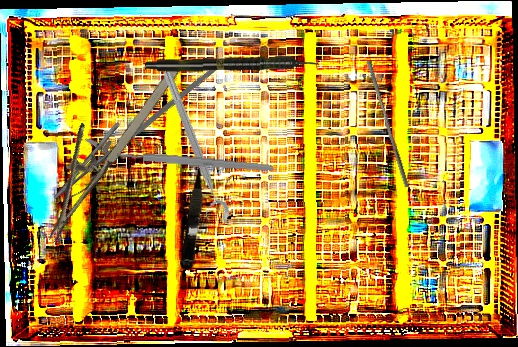Fixation Ring: (150, 68, 233, 226)
Handpiece: (144, 55, 319, 74)
Micro Scissor: (179, 145, 213, 271)
Needle Holder: (13, 40, 187, 244), (40, 32, 223, 219)
Pusher: (361, 59, 415, 189)
Scalpel Handle: (116, 150, 274, 173)
